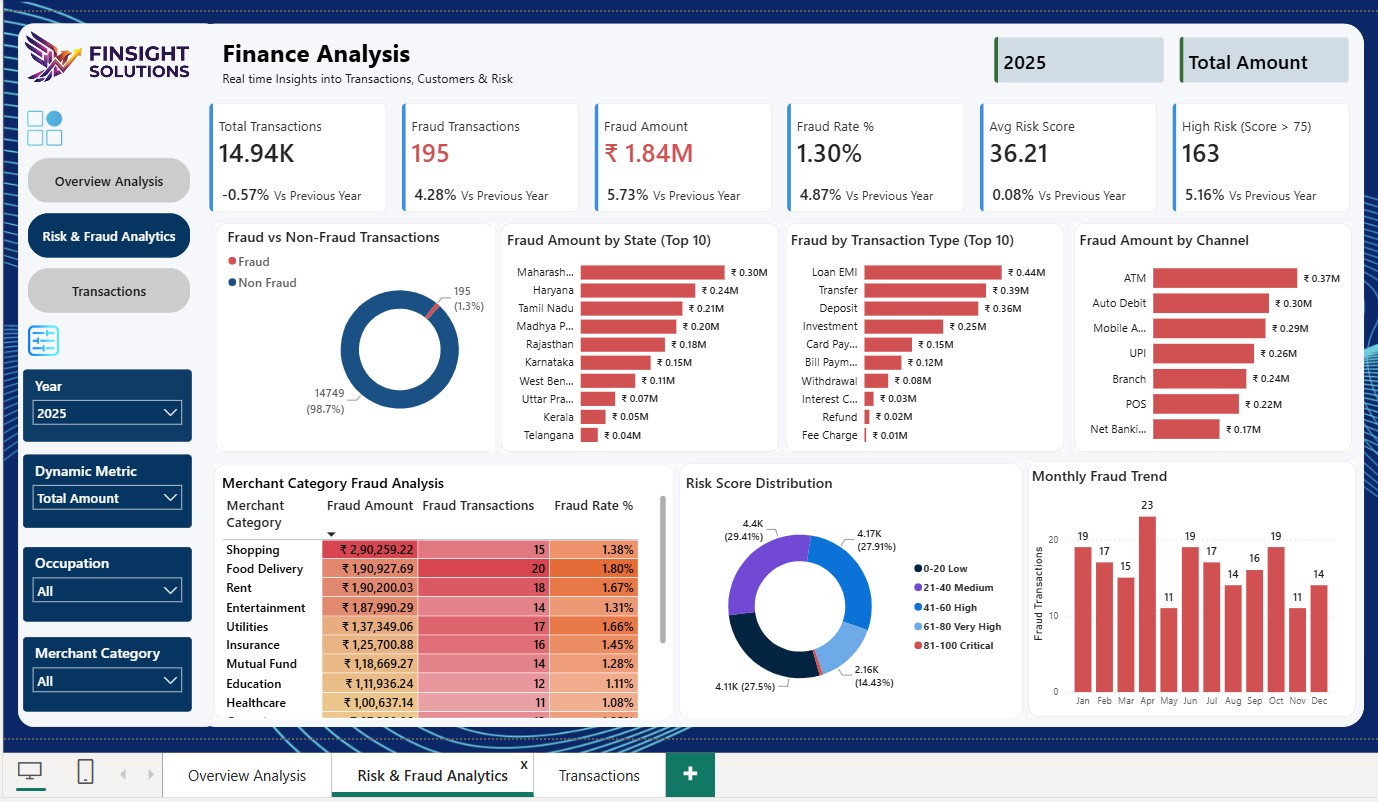

What the dashboard file says about the page in this screenshot:
{"tool":"powerbi","page":{"name":"Risk & Fraud Analytics","canvas":[1800,950],"ordinal":2},"visuals":[{"type":"shape","box":[11.4,14.7,279.6,920.6],"z":0},{"type":"shape","box":[250.2,14.7,1530.5,920.6],"z":1000},{"type":"image","box":[27.8,27.8,210.9,85],"z":2000},{"type":"cardVisual","fields":{"Data":["finance_transactions.Dashboard Title"]},"box":[250.2,14.7,421.9,85],"z":3000},{"type":"cardVisual","fields":{"Data":["All Measures.Total Transactions","All Second Measures.Fraud Transactions","All Second Measures.Fraud Amount","All Second Measures.Fraud Rate %","All Second Measures.Avg Risk Score","All Second Measures.High Risk Transactions"]},"box":[263.2,112.3,1505.3,154.4],"z":4000},{"type":"slicer","fields":{"Values":["Calander Table.Year"]},"box":[19.9,467.1,220.5,94.5],"z":5000},{"type":"slicer","fields":{"Values":["Parameter.Parameter"]},"box":[19.9,579.1,220.5,96.2],"z":6000},{"type":"cardVisual","fields":{"Data":["All Measures.Selected Dynammic Year","All Measures.Selected Dynamic Measures"]},"box":[1291.2,28.1,475.4,70.2],"z":7000},{"type":"shape","box":[1401.3,276.3,363,299.2],"z":8000},{"type":"barChart","title":"Fraud Amount by Channel","fields":{"Category":["finance_transactions.channel"],"Y":["All Second Measures.Fraud Amount"]},"box":[1406.3,281.3,353.2,291.1],"z":9000},{"type":"shape","box":[884.6,590.3,449.7,335.2],"z":10000},{"type":"donutChart","title":"Risk Score Distribution","fields":{"Category":["finance_transactions.Risk Category"],"Y":["Count(finance_transactions.transaction_id)"]},"box":[891.2,600.1,435,322.1],"z":11000},{"type":"shape","box":[276.3,591.9,601.7,333.6],"z":12000},{"type":"tableEx","title":"Merchant Category Fraud Analysis","fields":{"Values":["finance_transactions.merchant_category","All Second Measures.Fraud Amount","All Second Measures.Fraud Transactions","All Second Measures.Fraud Rate %"]},"box":[284.5,600.1,585.4,325.4],"z":13000},{"type":"shape","box":[1340.3,586.8,428.8,335.1],"z":14000},{"type":"columnChart","title":"Monthly Fraud Trend","fields":{"Category":["Calander Table.Months_Name"],"Y":["All Second Measures.Fraud Transactions"]},"box":[1345.5,593.8,418.4,321.2],"z":15000},{"type":"slicer","fields":{"Values":["customers.occupation"]},"box":[19.9,699.8,220.5,98],"z":16000},{"type":"slicer","fields":{"Values":["finance_transactions.merchant_category"]},"box":[19.9,817.1,220.5,98],"z":17000},{"type":"image","box":[17.5,168,54.2,45.5],"z":18000},{"type":"image","box":[14,407.7,54.2,45.5],"z":19000},{"type":"pageNavigator","box":[26,223.5,213.1,169.8],"z":20000},{"type":"shape","box":[278,276.3,364.6,299.2],"z":21000},{"type":"shape","box":[650.8,276.3,364.6,299.2],"z":22000},{"type":"shape","box":[1023.6,276.3,364.6,299.2],"z":23000},{"type":"donutChart","title":"Fraud vs Non-Fraud Transactions","fields":{"Y":["All Second Measures.Fraud Transactions","All Second Measures.Non Fraud Transactions"]},"box":[284,281.3,358.1,291],"z":24000},{"type":"barChart","title":"Fraud by Transaction Type (Top 10)","fields":{"Category":["finance_transactions.transaction_type"],"Y":["All Second Measures.Fraud Amount"]},"box":[1028.5,281.3,353.2,291.1],"z":25000},{"type":"barChart","title":"Fraud Amount by State (Top 10)","fields":{"Category":["customers.state"],"Y":["All Second Measures.Fraud Amount"]},"box":[657.3,281.3,353.2,291.1],"z":26000}]}

Visuals, with their boxes on the page's 1800x950 design canvas (x1, y1, x2, y2). These are canvas units, not pixel positions in the 1378x802 screenshot, which may show the page scaled, cropped or inside an application window:
shape: [x1=11, y1=15, x2=291, y2=935]
shape: [x1=250, y1=15, x2=1781, y2=935]
image: [x1=28, y1=28, x2=239, y2=113]
cardVisual - finance_transactions.Dashboard Title: [x1=250, y1=15, x2=672, y2=100]
cardVisual - All Measures.Total Transactions x All Second Measures.Fraud Transactions: [x1=263, y1=112, x2=1768, y2=267]
slicer - Calander Table.Year: [x1=20, y1=467, x2=240, y2=562]
slicer - Parameter.Parameter: [x1=20, y1=579, x2=240, y2=675]
cardVisual - All Measures.Selected Dynammic Year x All Measures.Selected Dynamic Measures: [x1=1291, y1=28, x2=1767, y2=98]
shape: [x1=1401, y1=276, x2=1764, y2=576]
"Fraud Amount by Channel" barChart: [x1=1406, y1=281, x2=1760, y2=572]
shape: [x1=885, y1=590, x2=1334, y2=926]
"Risk Score Distribution" donutChart: [x1=891, y1=600, x2=1326, y2=922]
shape: [x1=276, y1=592, x2=878, y2=926]
"Merchant Category Fraud Analysis" tableEx: [x1=284, y1=600, x2=870, y2=926]
shape: [x1=1340, y1=587, x2=1769, y2=922]
"Monthly Fraud Trend" columnChart: [x1=1346, y1=594, x2=1764, y2=915]
slicer - customers.occupation: [x1=20, y1=700, x2=240, y2=798]
slicer - finance_transactions.merchant_category: [x1=20, y1=817, x2=240, y2=915]
image: [x1=18, y1=168, x2=72, y2=214]
image: [x1=14, y1=408, x2=68, y2=453]
pageNavigator: [x1=26, y1=224, x2=239, y2=393]
shape: [x1=278, y1=276, x2=643, y2=576]
shape: [x1=651, y1=276, x2=1015, y2=576]
shape: [x1=1024, y1=276, x2=1388, y2=576]
"Fraud vs Non-Fraud Transactions" donutChart: [x1=284, y1=281, x2=642, y2=572]
"Fraud by Transaction Type (Top 10)" barChart: [x1=1028, y1=281, x2=1382, y2=572]
"Fraud Amount by State (Top 10)" barChart: [x1=657, y1=281, x2=1010, y2=572]
